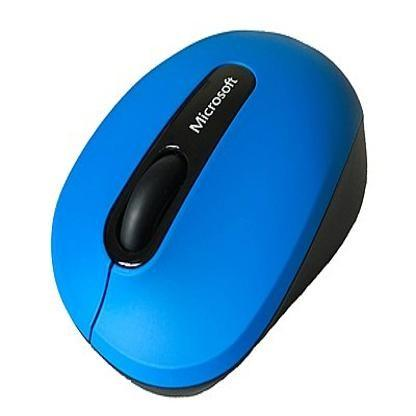not trash: (53, 30, 365, 398)
